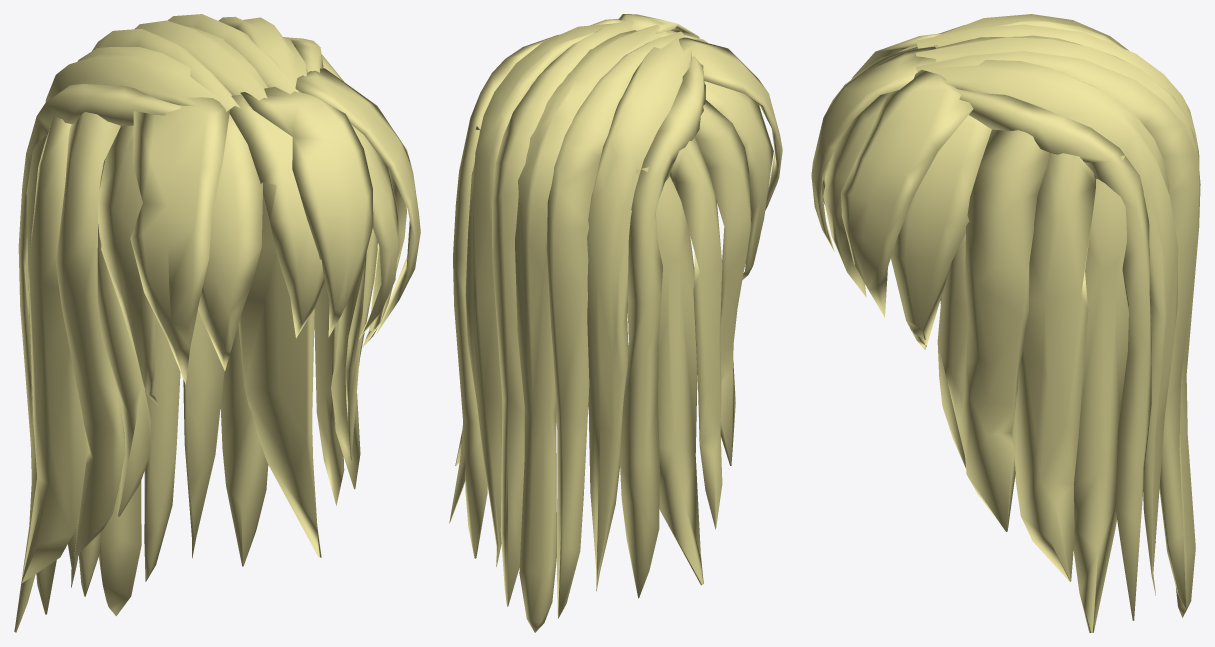
The model's file is yellowhairlowpoly.fbx.
The picture shows the model from 3 angles, left to right: view 1: azimuth 30°, elevation 25°; view 2: azimuth 150°, elevation 25°; view 3: azimuth 270°, elevation 25°; orthographic projection. The views are drawn at different scales.
Parts seen in each view (by area): view 1: Front; view 2: Front; view 3: Front.
Part boxes in pixels (<box>): Front: <box>14,14,420,632</box>; Front: <box>449,14,782,632</box>; Front: <box>811,14,1200,632</box>.
Size of the model in its own units: 364 by 711 by 432.
